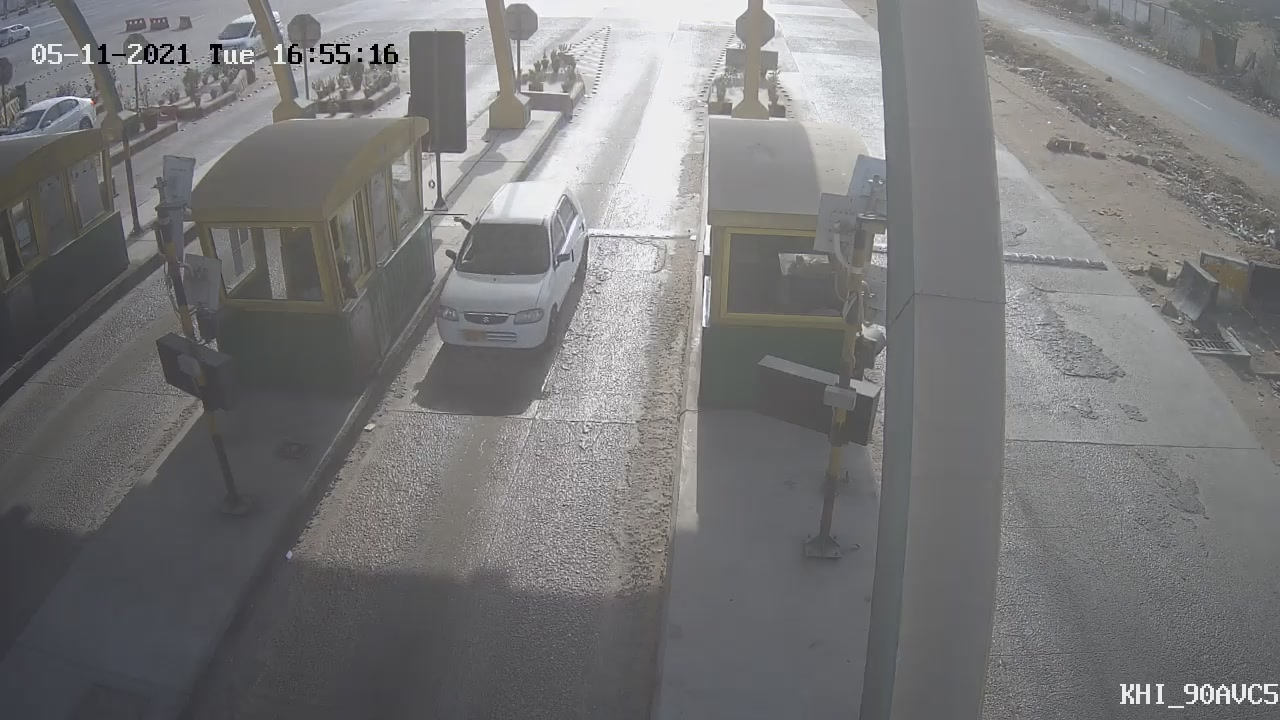F1: (411, 165, 612, 381)
